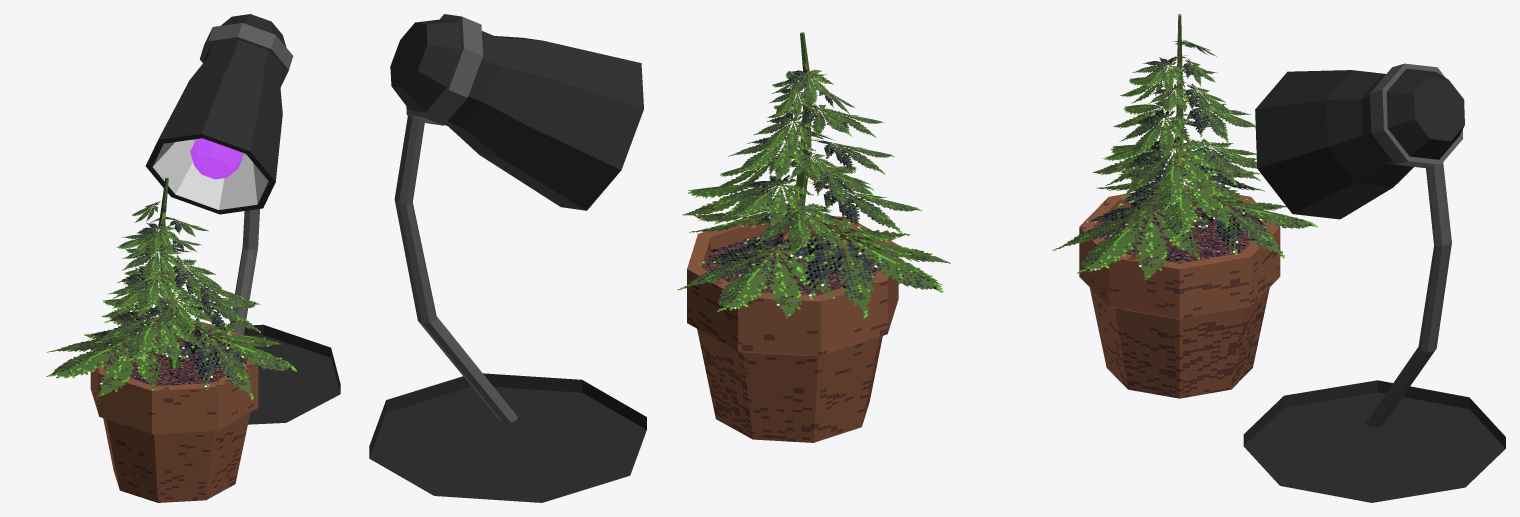
3 views of the same model, side by side, from view 1: azimuth 30°, elevation 25°; view 2: azimuth 150°, elevation 25°; view 3: azimuth 270°, elevation 25° (orthographic). The views are drawn at different scales.
Parts seen in each view (by area): view 1: weed_0, Circle_1; view 2: Circle_1, weed_0; view 3: Circle_1, weed_0.
Part boxes in pixels (bbox=[...]): weed_0: bbox=[46, 177, 296, 502]; Circle_1: bbox=[145, 14, 340, 424]; Circle_1: bbox=[369, 14, 646, 502]; weed_0: bbox=[677, 32, 950, 442]; Circle_1: bbox=[1243, 63, 1505, 502]; weed_0: bbox=[1052, 14, 1317, 398].
Bounding box in the file's own units: 5.35 × 4.8 × 5.27.
7 materials, 3 textured.
